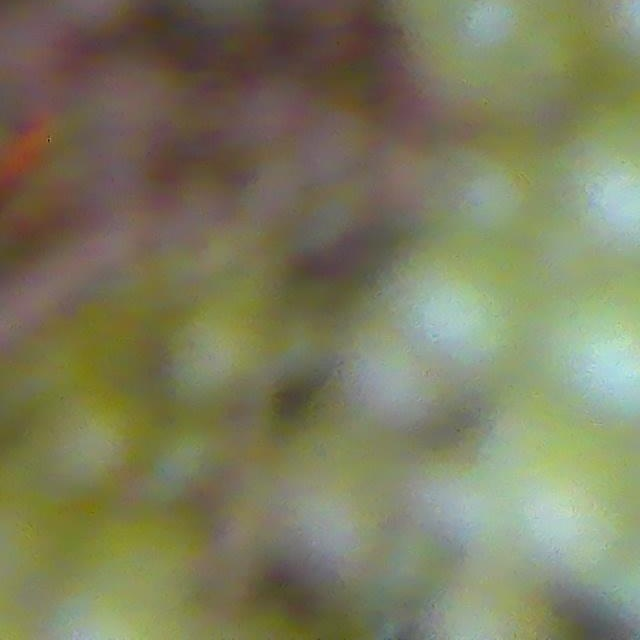SeaGrape: (393, 235, 550, 397), (468, 428, 640, 565), (142, 415, 234, 501)
